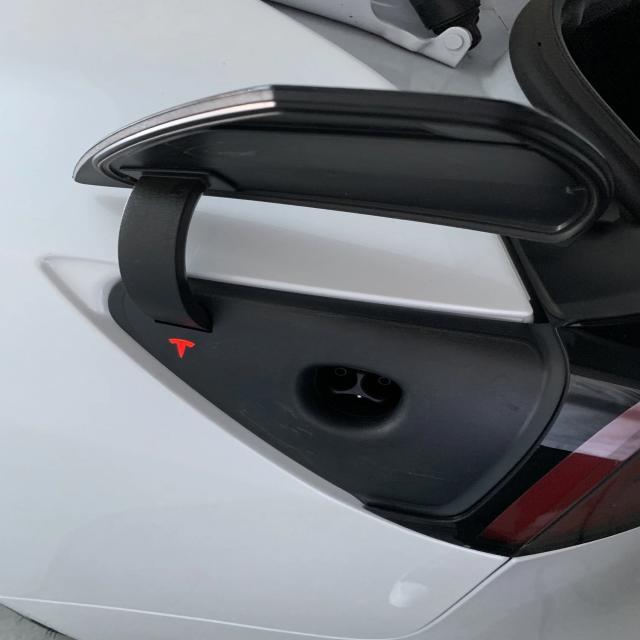Tesla Model-S-: (277, 340, 423, 466)
